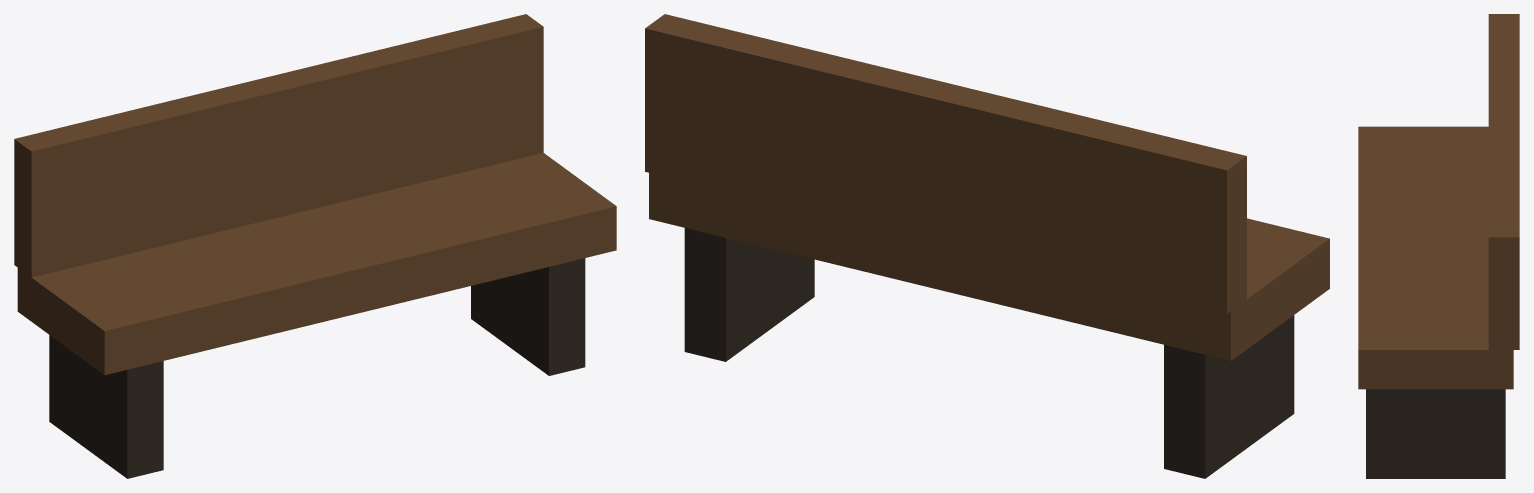
The model's file is bench.glb.
3 views of the same model, side by side, from view 1: azimuth 30°, elevation 25°; view 2: azimuth 150°, elevation 25°; view 3: azimuth 270°, elevation 25° (orthographic). The views are drawn at different scales.
Visible parts, largest first — view 1: Bench; view 2: Bench; view 3: Bench.
Part boxes in pixels (x1,y1,x2,y2): Bench: (14,14,616,478); Bench: (645,14,1329,478); Bench: (1358,14,1519,478).
Size of the model in its own units: 0.17 by 0.09 by 0.052.
